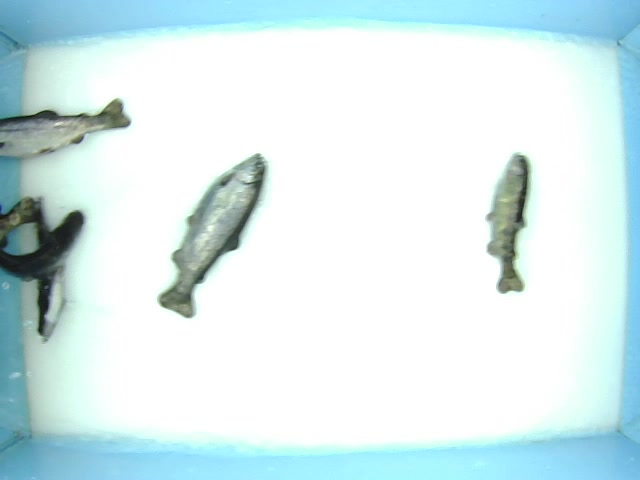fish: (150, 152, 285, 323), (1, 90, 136, 173), (479, 147, 526, 306)
